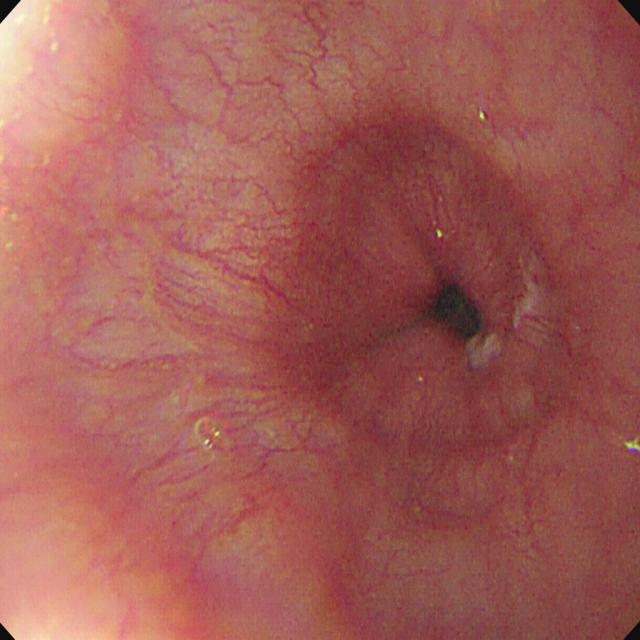I: (342, 185, 550, 428)
